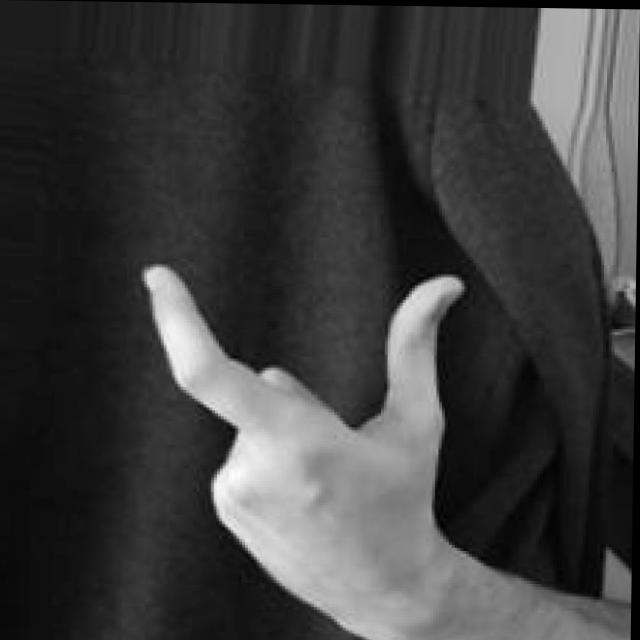U: (128, 252, 467, 640)
